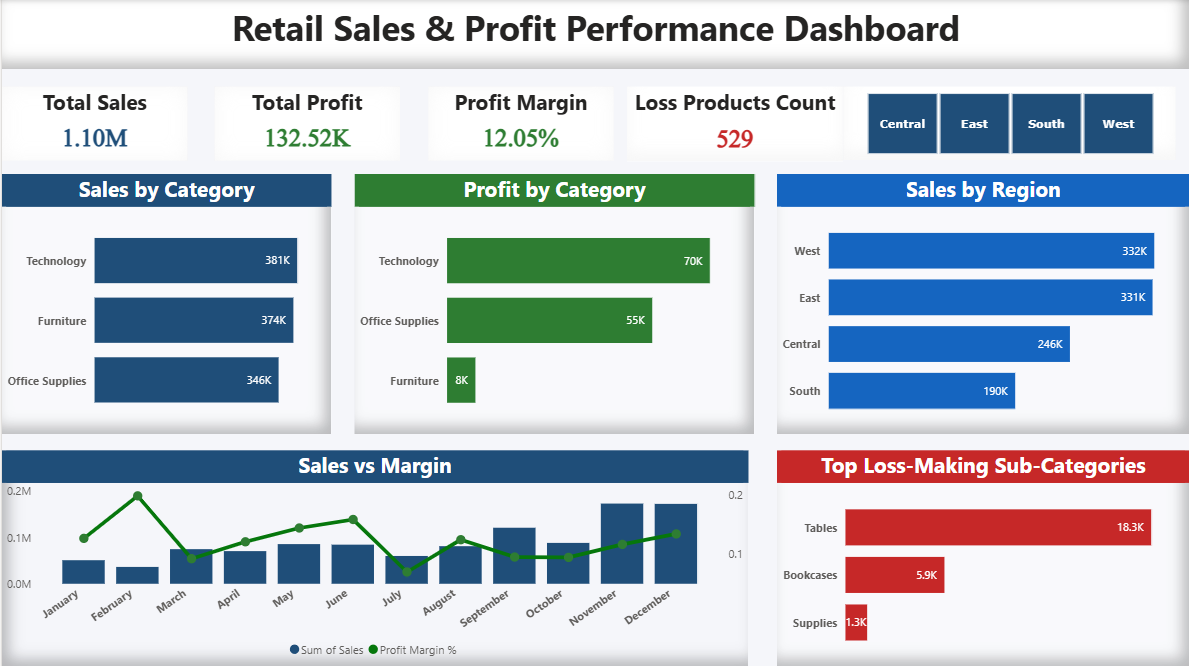

The page's visual inventory and layout, read from the dashboard file:
{"tool":"powerbi","page":{"name":"Page 1","canvas":[1280,720],"ordinal":0},"visuals":[{"type":"clusteredBarChart","title":"Sales by Category","fields":{"Y":["Sum(Superstore.Sales)"],"Category":["Superstore.Category"]},"box":[0,188.3,355,280],"z":0},{"type":"clusteredBarChart","title":"Profit by Category","fields":{"Y":["Sum(Superstore.Profit)"],"Category":["Superstore.Category"]},"box":[379.4,188.7,431.3,280.3],"z":1000},{"type":"clusteredBarChart","title":"Sales by Region","fields":{"Category":["Superstore.Region"],"Y":["Sum(Superstore.Sales)"]},"box":[835,188.3,445,280],"z":2000},{"type":"lineClusteredColumnComboChart","title":"Sales vs Margin","fields":{"Y":["Sum(Superstore.Sales)"],"Category":["Superstore.Order Date.Variation.Date Hierarchy.Month"],"Y2":["Superstore.Profit Margin %"]},"box":[0,486.9,804.6,233.1],"z":3000},{"type":"textbox","box":[0,0,1280.3,75.5],"z":4000},{"type":"card","title":"Total Sales","fields":{"Values":["Superstore.Total Sales"]},"box":[0,95,200,80],"z":5000},{"type":"card","title":"Total Profit","fields":{"Values":["Sum(Superstore.Profit)"]},"box":[229.4,95,200,80],"z":6000},{"type":"card","title":"Profit Margin","fields":{"Values":["Superstore.Profit Margin %"]},"box":[458.9,95,200,80],"z":7000},{"type":"slicer","fields":{"Values":["Superstore.Region"]},"box":[907,94.3,358.5,79.5],"z":8000},{"type":"card","title":"Loss Products Count","fields":{"Values":["Superstore.Loss Products"]},"box":[673.8,94.3,233.1,80.9],"z":9000},{"type":"clusteredBarChart","title":"Top Loss-Making Sub-Categories","fields":{"Category":["Superstore.Sub-Category"],"Y":["Superstore.Loss Amount1"]},"box":[835,487,445,233],"z":10000}]}

Visuals, with their boxes in screenshot pixels (x1, y1, x2, y2), scaled from the page's 1280x720 canvas onto the 1189x666 screenshot:
"Sales by Category" clusteredBarChart: [x1=0, y1=174, x2=330, y2=433]
"Profit by Category" clusteredBarChart: [x1=352, y1=175, x2=753, y2=434]
"Sales by Region" clusteredBarChart: [x1=776, y1=174, x2=1188, y2=433]
"Sales vs Margin" lineClusteredColumnComboChart: [x1=0, y1=450, x2=747, y2=665]
textbox: [x1=0, y1=0, x2=1188, y2=70]
"Total Sales" card: [x1=0, y1=88, x2=186, y2=162]
"Total Profit" card: [x1=213, y1=88, x2=399, y2=162]
"Profit Margin" card: [x1=426, y1=88, x2=612, y2=162]
slicer - Superstore.Region: [x1=843, y1=87, x2=1176, y2=161]
"Loss Products Count" card: [x1=626, y1=87, x2=842, y2=162]
"Top Loss-Making Sub-Categories" clusteredBarChart: [x1=776, y1=450, x2=1188, y2=665]
